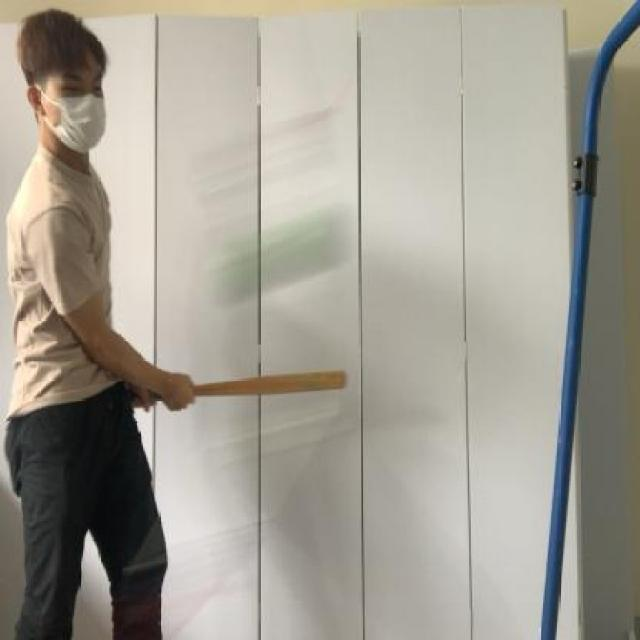baseball: (212, 198, 362, 316)
